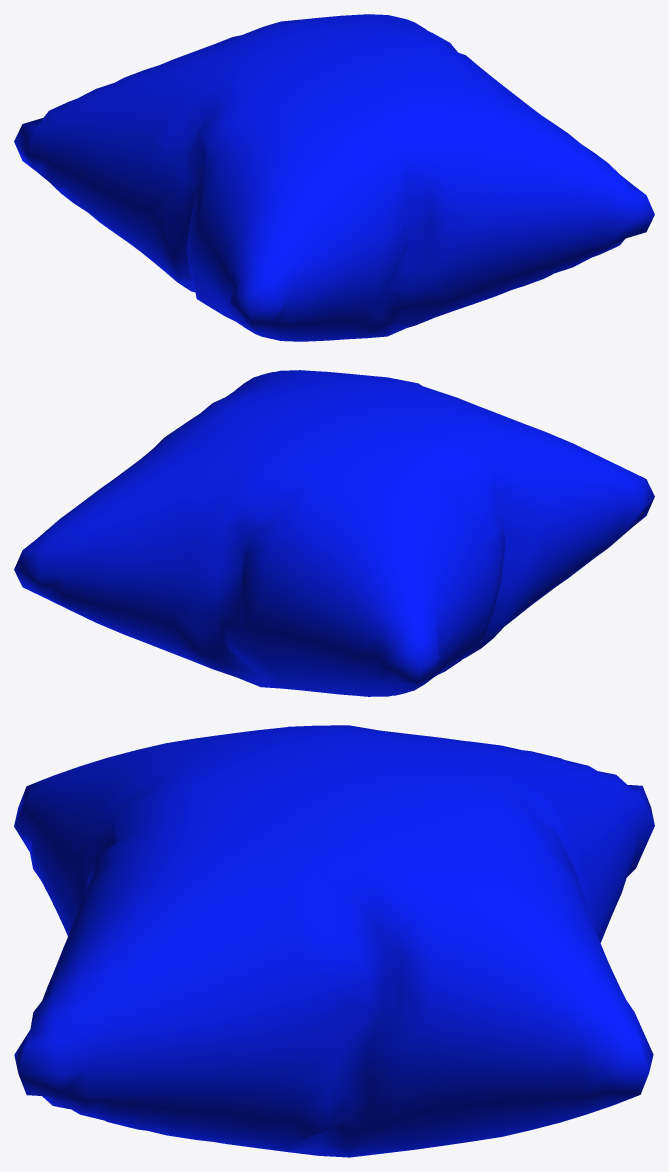
Rendered from pilow.glb.
3 views of the same model, one above another, from view 1: azimuth 30°, elevation 25°; view 2: azimuth 150°, elevation 25°; view 3: azimuth 270°, elevation 25° (orthographic). The views are drawn at different scales.
Visible parts, largest first — view 1: Plane; view 2: Plane; view 3: Plane.
Boxes of the visible parts, box(x1,y1,x2,y2) form: Plane: box(14, 14, 654, 341); Plane: box(14, 370, 654, 696); Plane: box(14, 725, 654, 1157).
Size of the model in its own units: 1.96 by 1.12 by 1.96.
